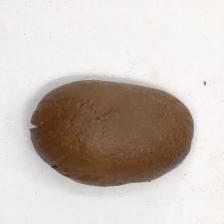NG: (29, 95, 59, 170)
